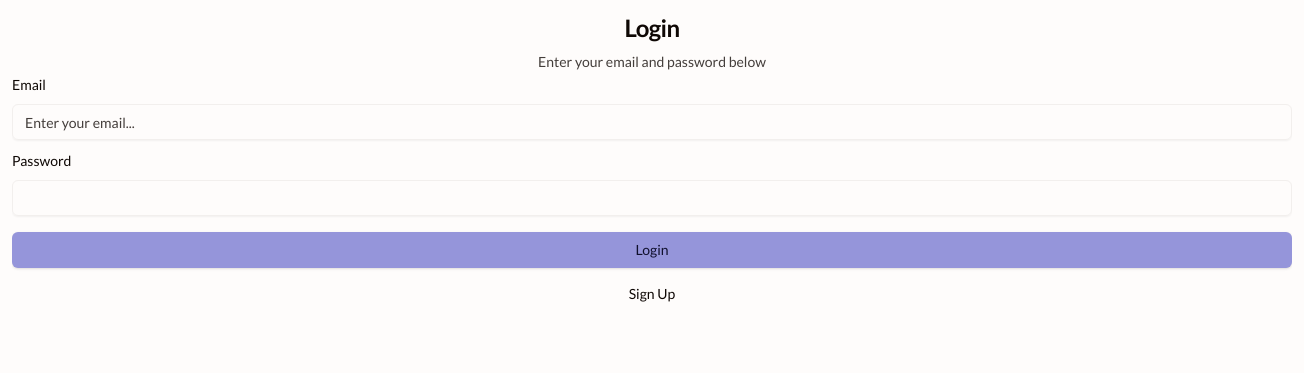
Test case: LoginForm › shows validation errors for invalid inputs
Click the button "Login" at [652, 250], box [12, 232, 1292, 268]
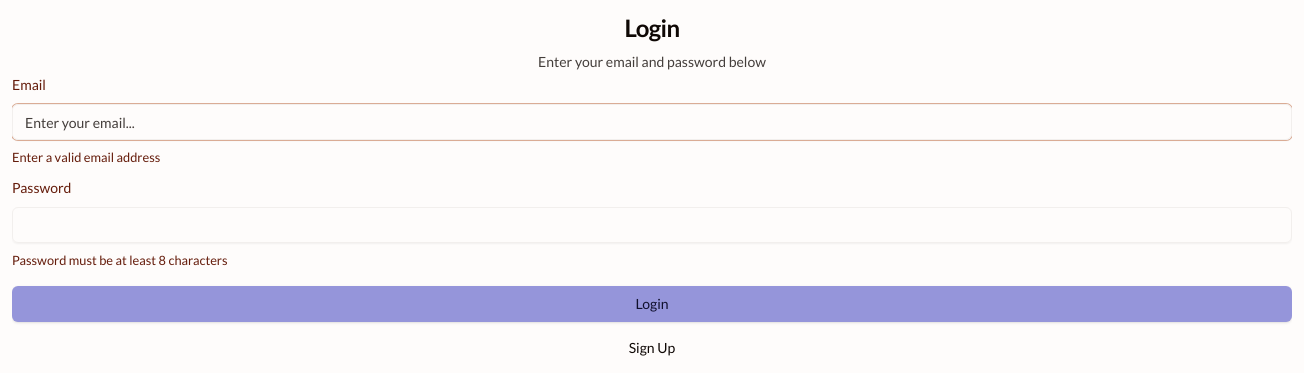
Expected: the text "Enter a valid email address" is shown, [12, 149, 160, 165]
Expected: the text "Password must be at least 8 characters" is shown, [12, 252, 228, 268]
